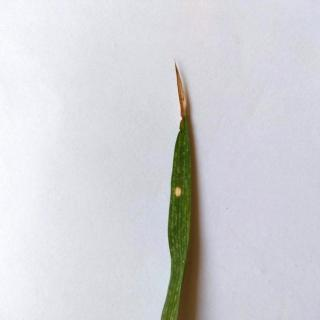Blast: (170, 178, 187, 202)
